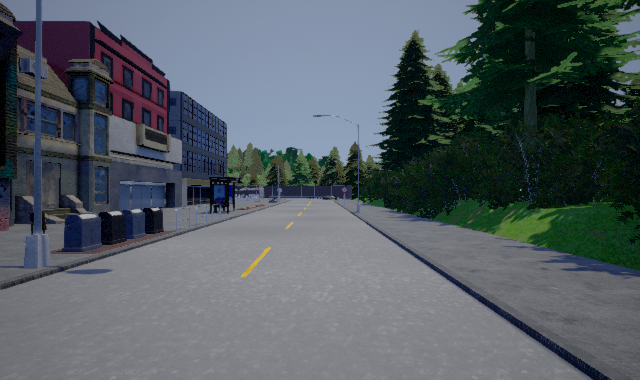traffic_sign: (341, 186, 348, 193)
